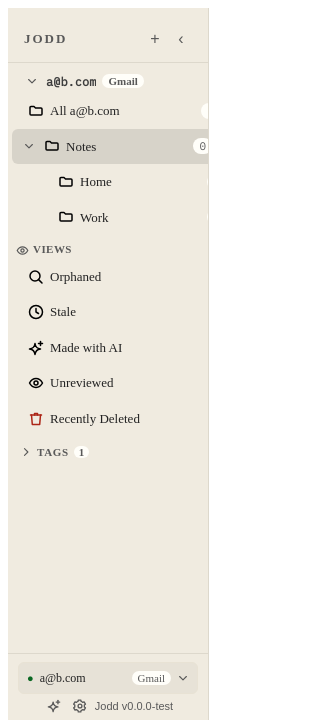
Test: tag menu › desktop still renders the anchored menu
Check: the text titled "Work" is shown, box 80,210 -> 109,224
Click the button with class "tags-header" at (55, 452), box 20,446 -> 89,458
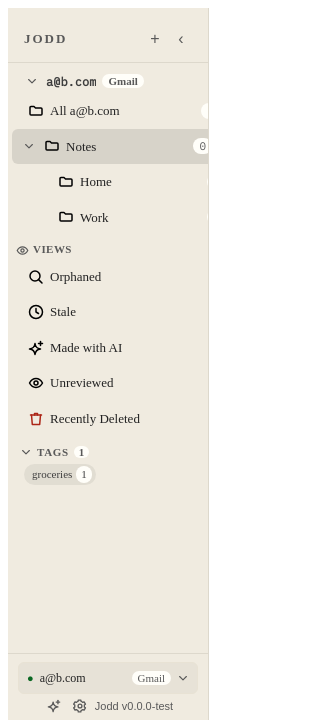
Check: the button with class "tag-pill" is shown
Right-click the button with class "tag-pill" at (60, 475), box 24,464 -> 96,485
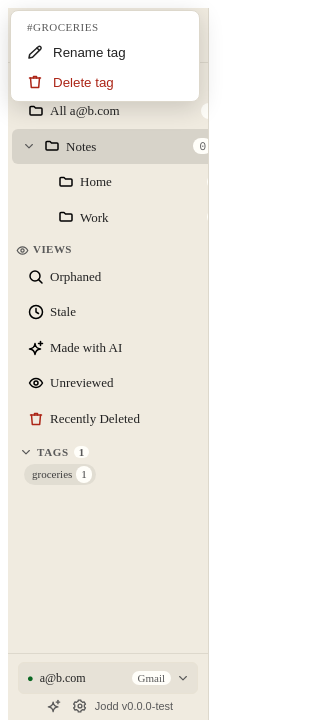
Check: the menu with class "folder-menu" is shown, box 10,10 -> 200,102
